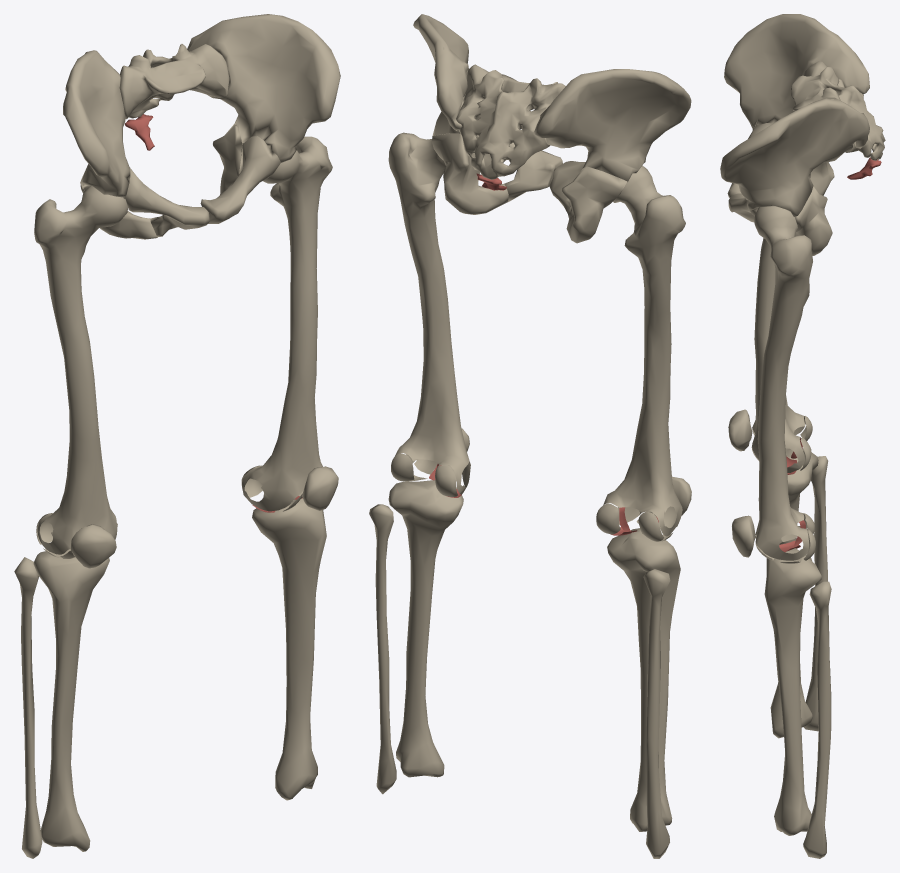
Rendered from adult_female.skeletal.LOD2.glb.
The picture shows the model from 3 angles, left to right: view 1: azimuth 30°, elevation 25°; view 2: azimuth 150°, elevation 25°; view 3: azimuth 270°, elevation 25°; orthographic projection. The views are drawn at different scales.
Visible parts, largest first — view 1: ADULT.FEMALE.SKELETAL.FEMUR.R, ADULT.FEMALE.SKELETAL.FEMUR.L, ADULT.FEMALE.SKELETAL.ILIUM_COMPACT_BONE.L, ADULT.FEMALE.SKELETAL.TIBIA.L, ADULT.FEMALE.SKELETAL.TIBIA.R, ADULT.FEMALE.SKELETAL.ILIUM_COMPACT_BONE.R, ADULT.FEMALE.SKELETAL.SACRUM, ADULT.FEMALE.SKELETAL.FIBULA.R, ADULT.FEMALE.SKELETAL.PUBIS_COMPACT_BONE.L, ADULT.FEMALE.SKELETAL.PUBIS_COMPACT_BONE.R, ADULT.FEMALE.SKELETAL.PATELLA.R, ADULT.FEMALE.SKELETAL.ISCHIUM_COMPACT_BONE.L (+2 smaller); view 2: ADULT.FEMALE.SKELETAL.FEMUR.R, ADULT.FEMALE.SKELETAL.FEMUR.L, ADULT.FEMALE.SKELETAL.ILIUM_COMPACT_BONE.R, ADULT.FEMALE.SKELETAL.TIBIA.L, ADULT.FEMALE.SKELETAL.SACRUM, ADULT.FEMALE.SKELETAL.TIBIA.R, ADULT.FEMALE.SKELETAL.FIBULA.R, ADULT.FEMALE.SKELETAL.FIBULA.L, ADULT.FEMALE.SKELETAL.ILIUM_COMPACT_BONE.L, ADULT.FEMALE.SKELETAL.ISCHIUM_COMPACT_BONE.L, ADULT.FEMALE.SKELETAL.ISCHIUM_COMPACT_BONE.R, ADULT.FEMALE.SKELETAL.PUBIS_COMPACT_BONE.L (+1 smaller); view 3: ADULT.FEMALE.SKELETAL.FEMUR.L, ADULT.FEMALE.SKELETAL.ILIUM_COMPACT_BONE.L, ADULT.FEMALE.SKELETAL.ILIUM_COMPACT_BONE.R, ADULT.FEMALE.SKELETAL.TIBIA.L, ADULT.FEMALE.SKELETAL.FIBULA.L, ADULT.FEMALE.SKELETAL.FEMUR.R, ADULT.FEMALE.SKELETAL.SACRUM, ADULT.FEMALE.SKELETAL.FIBULA.R, ADULT.FEMALE.SKELETAL.TIBIA.R, ADULT.FEMALE.SKELETAL.ISCHIUM_COMPACT_BONE.L, ADULT.FEMALE.SKELETAL.PATELLA.R, ADULT.FEMALE.SKELETAL.PATELLA.L (+2 smaller).
Part boxes in pixels (x1,y1,x2,y2): ADULT.FEMALE.SKELETAL.FEMUR.R: (34,185,127,554); ADULT.FEMALE.SKELETAL.FEMUR.L: (242,136,332,511); ADULT.FEMALE.SKELETAL.ILIUM_COMPACT_BONE.L: (187,14,340,162); ADULT.FEMALE.SKELETAL.TIBIA.L: (252,494,326,800); ADULT.FEMALE.SKELETAL.TIBIA.R: (33,551,109,851); ADULT.FEMALE.SKELETAL.ILIUM_COMPACT_BONE.R: (63,50,130,197); ADULT.FEMALE.SKELETAL.SACRUM: (119,44,229,119); ADULT.FEMALE.SKELETAL.FIBULA.R: (14,557,42,858); ADULT.FEMALE.SKELETAL.PUBIS_COMPACT_BONE.L: (200,136,280,223); ADULT.FEMALE.SKELETAL.PUBIS_COMPACT_BONE.R: (123,167,209,236); ADULT.FEMALE.SKELETAL.PATELLA.R: (70,524,116,568); ADULT.FEMALE.SKELETAL.ISCHIUM_COMPACT_BONE.L: (213,124,242,218); ADULT.FEMALE.SKELETAL.FEMUR.R: (603,165,685,536); ADULT.FEMALE.SKELETAL.FEMUR.L: (388,132,470,494); ADULT.FEMALE.SKELETAL.ILIUM_COMPACT_BONE.R: (534,69,691,182); ADULT.FEMALE.SKELETAL.TIBIA.L: (388,480,463,777); ADULT.FEMALE.SKELETAL.SACRUM: (456,64,565,179); ADULT.FEMALE.SKELETAL.TIBIA.R: (607,528,680,831); ADULT.FEMALE.SKELETAL.FIBULA.R: (643,569,670,858); ADULT.FEMALE.SKELETAL.FIBULA.L: (369,504,396,794); ADULT.FEMALE.SKELETAL.ILIUM_COMPACT_BONE.L: (413,14,479,135); ADULT.FEMALE.SKELETAL.ISCHIUM_COMPACT_BONE.L: (432,133,508,214); ADULT.FEMALE.SKELETAL.ISCHIUM_COMPACT_BONE.R: (562,166,627,243); ADULT.FEMALE.SKELETAL.PUBIS_COMPACT_BONE.L: (476,135,562,201); ADULT.FEMALE.SKELETAL.FEMUR.L: (754,206,812,560); ADULT.FEMALE.SKELETAL.ILIUM_COMPACT_BONE.L: (720,97,869,216); ADULT.FEMALE.SKELETAL.ILIUM_COMPACT_BONE.R: (724,14,869,130); ADULT.FEMALE.SKELETAL.TIBIA.L: (764,548,821,835); ADULT.FEMALE.SKELETAL.FIBULA.L: (803,581,831,858); ADULT.FEMALE.SKELETAL.FEMUR.R: (752,238,805,472); ADULT.FEMALE.SKELETAL.SACRUM: (791,61,885,160); ADULT.FEMALE.SKELETAL.FIBULA.R: (803,456,828,731); ADULT.FEMALE.SKELETAL.TIBIA.R: (770,448,818,738); ADULT.FEMALE.SKELETAL.ISCHIUM_COMPACT_BONE.L: (795,186,832,255); ADULT.FEMALE.SKELETAL.PATELLA.R: (728,409,752,451); ADULT.FEMALE.SKELETAL.PATELLA.L: (732,515,755,557).
Bounding box in the file's own units: 0.3622 × 0.8974 × 0.1829.
